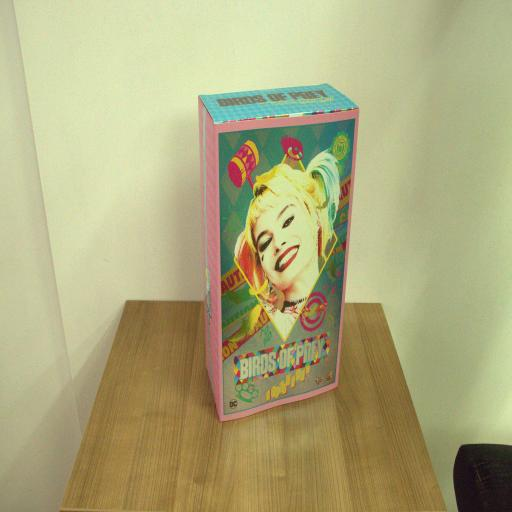Harley: (197, 81, 361, 419)
